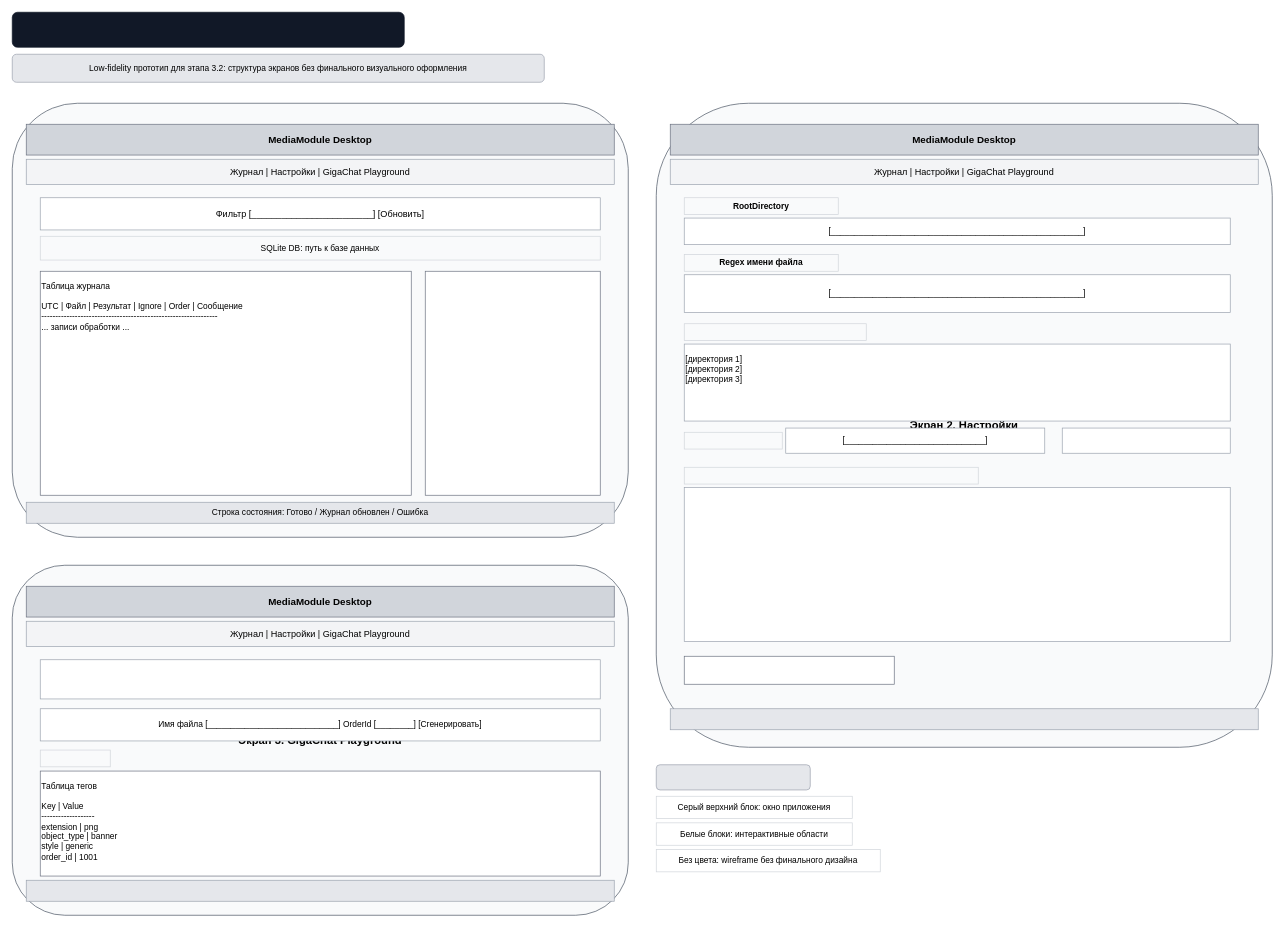
The diagram is 1285 pixels wide and 928 high, and some of its shapes have lost their labels. The centre of each missing label's shape, as x and y in pixels:
1001;ClientA;Banner 1002;ClientB;Poster ...: point 957,564
[x] AutoAcceptTags: point 1146,440
[Сохранить] [Перезагрузить]: point 789,670
DatabasePath: point 733,440
ELMA mock orders: OrderId;ClientName;ProductType: point 831,475
MonitoredDirectories (по строке): point 775,332
Wireframe интерфейса MediaModule Desktop: point 208,29
Информационный текст о mock-режиме и назначении playground: point 320,679
Результат: point 75,758
Строка состояния: Настройки загружены / сохранены / ошибка: point 964,719
Строка состояния: Сформировано тегов: N: point 320,890
Теги выбранной записи Key | Value ------------------- ... список тегов ...: point 512,383
Условные обозначения: point 733,777
